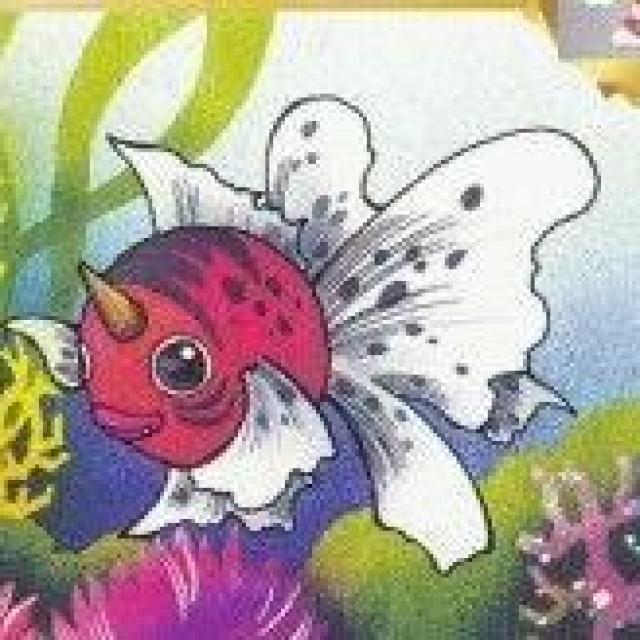Seaking: (66, 185, 475, 545)
